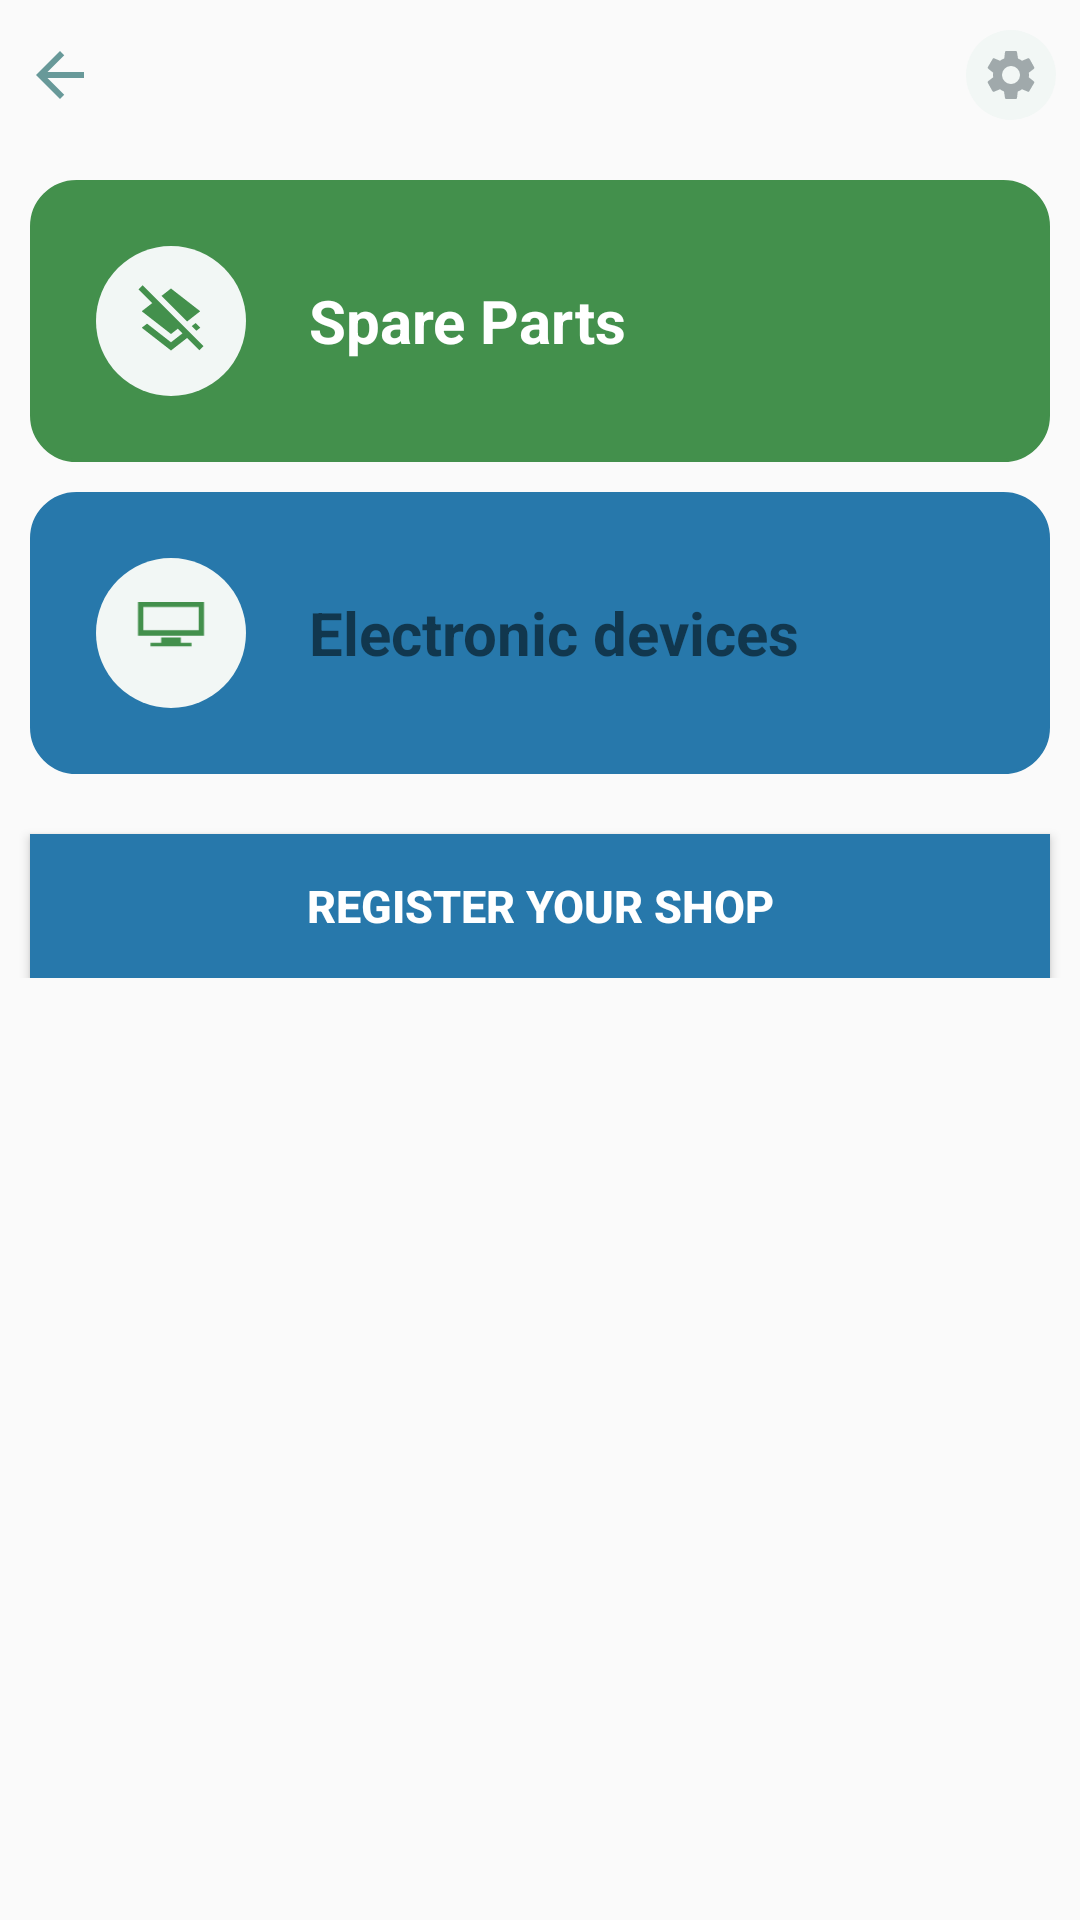

Icons on this 1080 × 1920 Android screen, each with its box as (x1, y1, x2, y2):
settings: (987, 51, 1035, 99)
